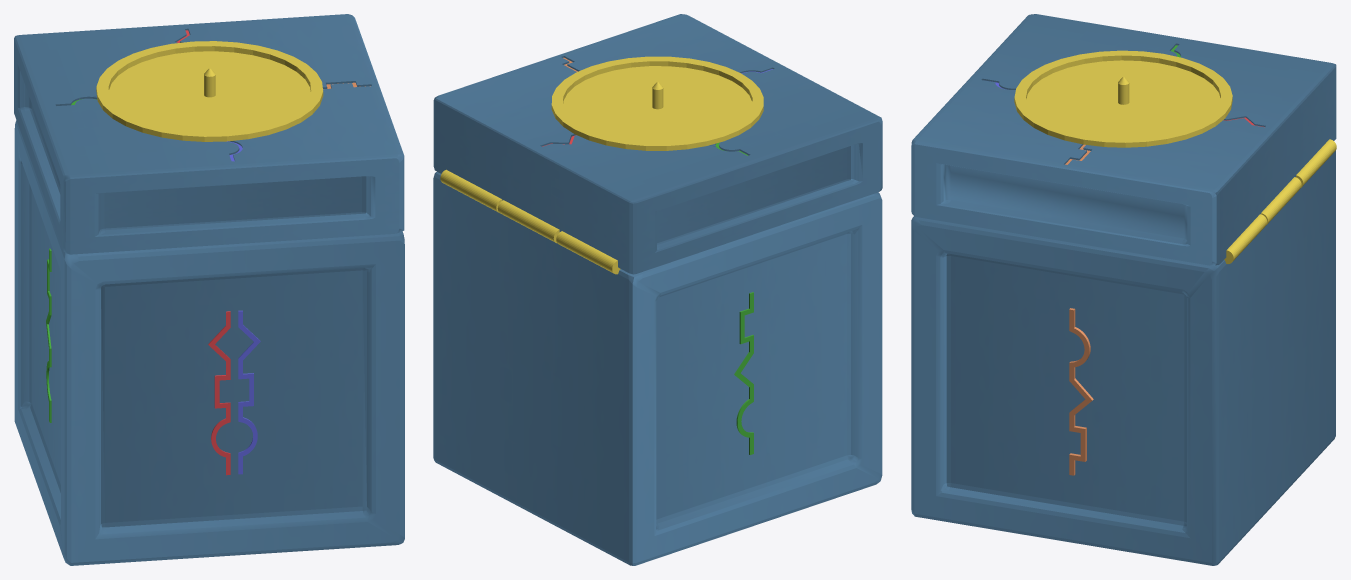
The model's file is puzzleBox.glb.
3 views of the same model, side by side, from view 1: azimuth 30°, elevation 25°; view 2: azimuth 150°, elevation 25°; view 3: azimuth 270°, elevation 25° (orthographic). The views are drawn at different scales.
Parts seen in each view (by area): view 1: Cube.045, lid, bottom blocker, rim, Curve.021, Curve.024, Curve.028; view 2: Cube.045, lid, bottom blocker, rim, Curve.028, Cylinder.049, hingle, Cylinder.050; view 3: Cube.045, lid, bottom blocker, rim, Curve.027, Cylinder.050, Cylinder.049, hingle.
Part boxes in pixels (left/top/right/bottom): Cube.045: left=14, top=120, right=404, bottom=565; lid: left=14, top=14, right=404, bottom=254; bottom blocker: left=109, top=51, right=310, bottom=131; rim: left=96, top=41, right=323, bottom=141; Curve.021: left=208, top=311, right=230, bottom=475; Curve.024: left=238, top=310, right=260, bottom=474; Curve.028: left=46, top=248, right=51, bottom=422; Cube.045: left=433, top=172, right=882, bottom=565; lid: left=433, top=14, right=882, bottom=274; bottom blocker: left=563, top=66, right=752, bottom=141; rim: left=551, top=56, right=763, bottom=150; Curve.028: left=734, top=292, right=753, bottom=454; Cylinder.049: left=556, top=231, right=620, bottom=274; hingle: left=497, top=200, right=559, bottom=243; Cylinder.050: left=440, top=169, right=502, bottom=212; Cube.045: left=911, top=150, right=1335, bottom=565; lid: left=911, top=14, right=1336, bottom=265; bottom blocker: left=1026, top=60, right=1220, bottom=137; rim: left=1014, top=50, right=1232, bottom=147; Curve.027: left=1069, top=308, right=1093, bottom=475; Cylinder.050: left=1224, top=214, right=1267, bottom=263; Cylinder.049: left=1296, top=139, right=1336, bottom=187; hingle: left=1261, top=177, right=1301, bottom=224.
Size of what is drawn, in the model's own units: 0.1336 by 0.139 by 0.1336.
Materials: 6 (1 with a texture image).
